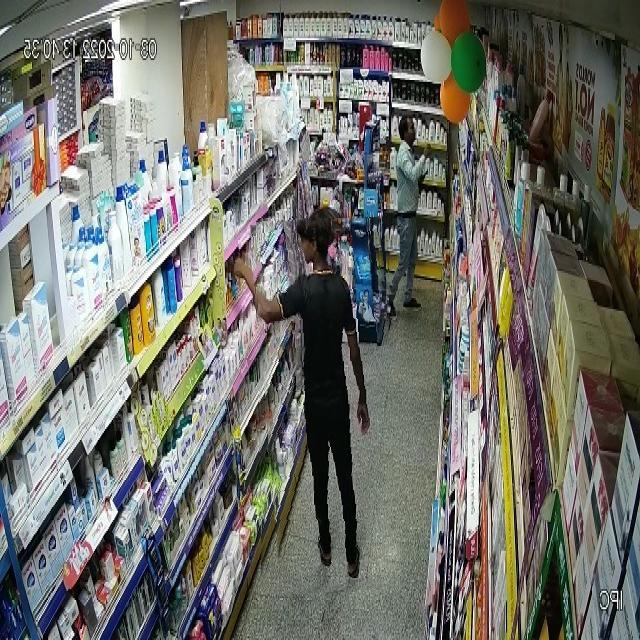Normal: (256, 218, 398, 593)
